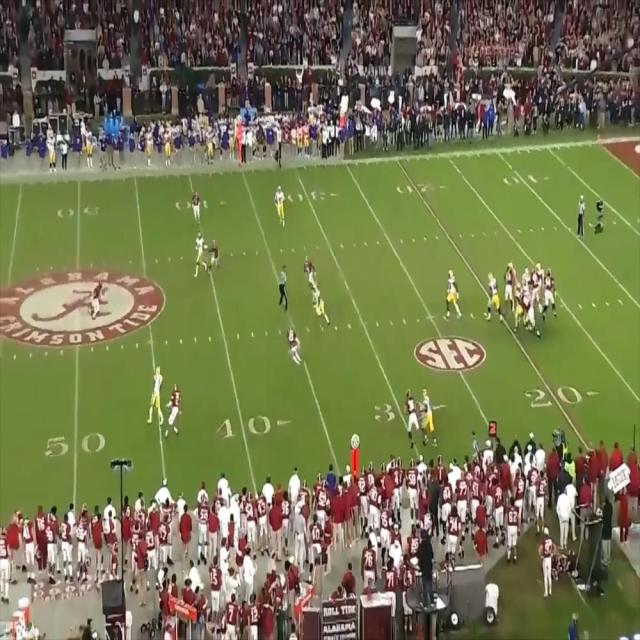db: (166, 388, 180, 437), (90, 278, 102, 320), (287, 326, 300, 364), (302, 256, 313, 291), (193, 190, 200, 224)
lb: (406, 391, 418, 445), (209, 239, 219, 270)
skill: (148, 369, 163, 425), (193, 230, 206, 275), (312, 284, 326, 325), (275, 188, 284, 226)
